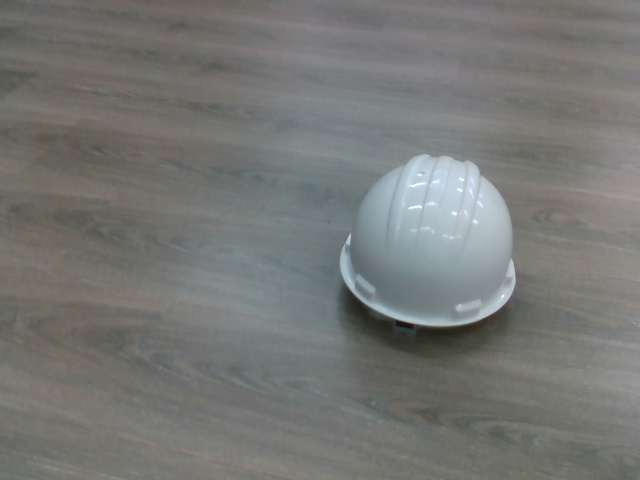helmet: (337, 148, 520, 335)
